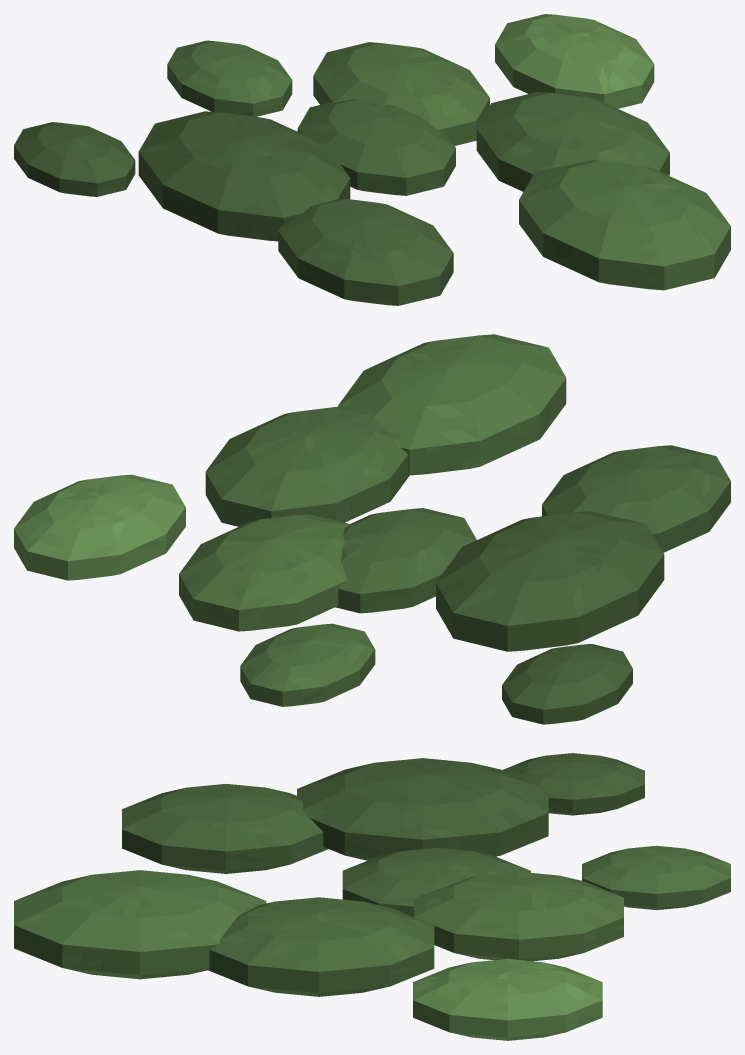
File: seed_spinach.glb
The picture shows the model from 3 angles, top to bottom: view 1: azimuth 30°, elevation 25°; view 2: azimuth 150°, elevation 25°; view 3: azimuth 270°, elevation 25°; orthographic projection. The views are drawn at different scales.
Parts seen in each view (by area): view 1: block_grain 8, block_grain 2, block_grain 5, block_grain 3, block_grain 6, block_grain 1, block_grain 0, block_grain 4, block_grain 7; view 2: block_grain 2, block_grain 8, block_grain 3, block_grain 1, block_grain 6, block_grain 5, block_grain 0, block_grain 4, block_grain 7; view 3: block_grain 8, block_grain 2, block_grain 3, block_grain 1, block_grain 5, block_grain 6, block_grain 4, block_grain 0, block_grain 7.
Boxes of the visible parts, x1,y1,x2,y2 form: block_grain 8: (519,160,730,290); block_grain 2: (138,111,350,241); block_grain 5: (278,198,453,305); block_grain 3: (476,92,669,191); block_grain 6: (495,14,654,108); block_grain 1: (313,42,489,145); block_grain 0: (297,99,455,195); block_grain 4: (167,40,292,116); block_grain 7: (14,122,135,196); block_grain 2: (436,511,664,651); block_grain 8: (337,334,566,475); block_grain 3: (205,406,409,526); block_grain 1: (179,514,350,631); block_grain 6: (14,474,185,580); block_grain 5: (542,445,730,552); block_grain 0: (335,508,476,613); block_grain 4: (240,623,375,706); block_grain 7: (502,644,632,724); block_grain 8: (14,870,266,979); block_grain 2: (297,758,548,860); block_grain 3: (206,897,434,996); block_grain 1: (414,871,623,961); block_grain 5: (122,784,328,873); block_grain 6: (413,959,602,1040); block_grain 4: (582,845,730,910); block_grain 0: (342,847,530,916); block_grain 7: (502,753,644,815).
Size of the model in its own units: 0.0199 by 0.00256 by 0.022.
1 material, 1 textured.
